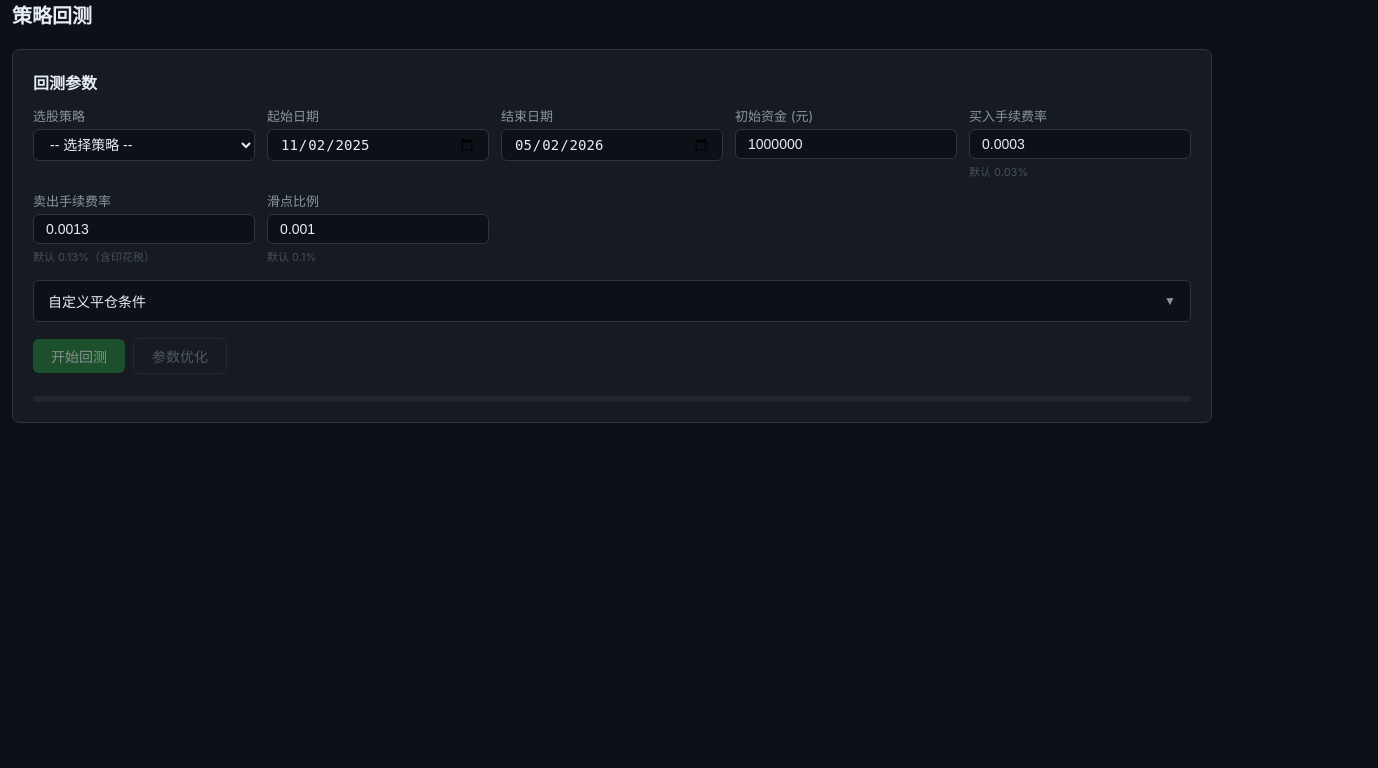
Test case: BacktestView - 模版管理 › 有平仓条件时"保存为模版"按钮启用
What coordinates should you click on to do the following:
click the button "自定义平仓条件 ▼"
I would click on:
 (97, 302)
Its box is [34,281,1190,321].
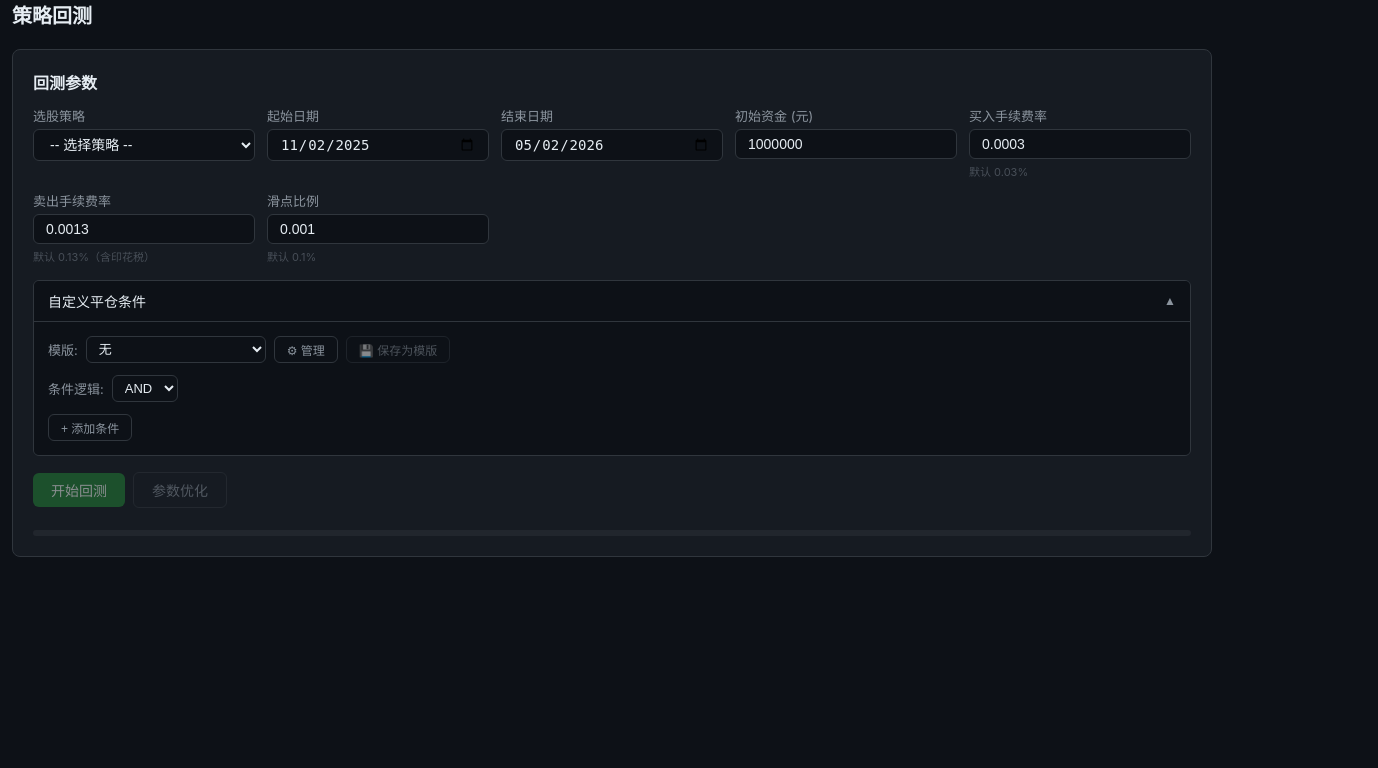
What coordinates should you click on to do the following:
click the button with aria-label "添加平仓条件"
I would click on:
 (90, 428)
Its box is [48,414,132,441].
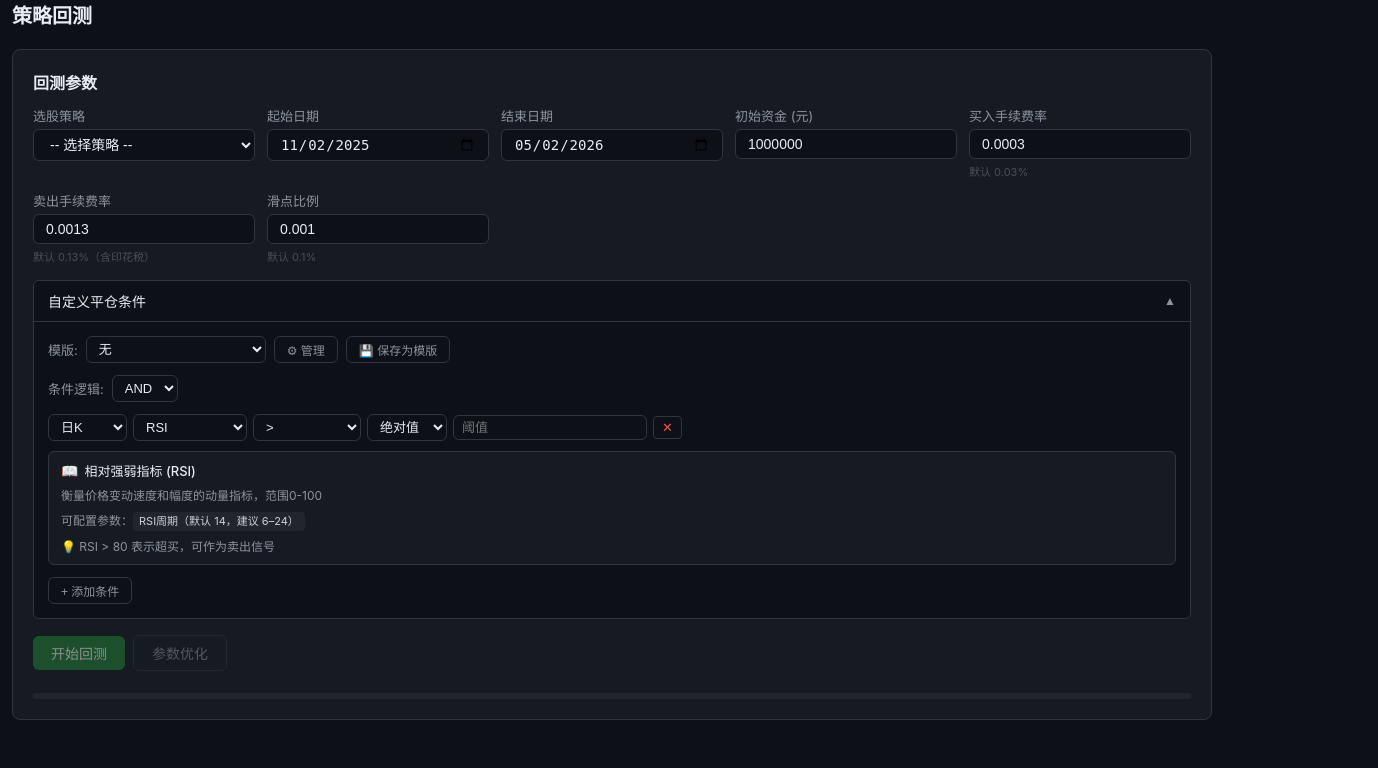
Expected: the button with aria-label "保存为模版" is enabled, [346,336,450,363]
